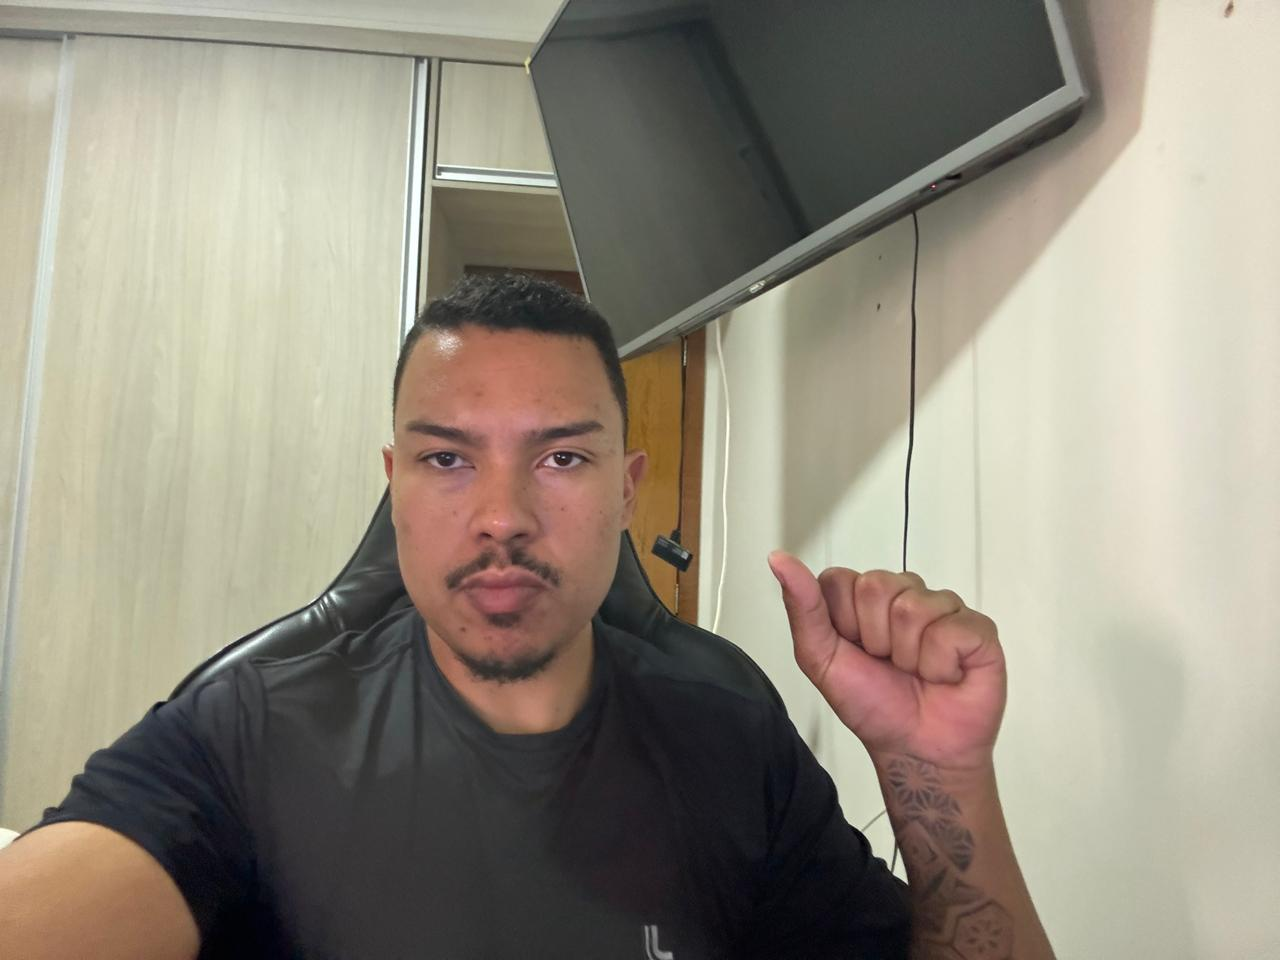a: (762, 541, 1015, 772)
